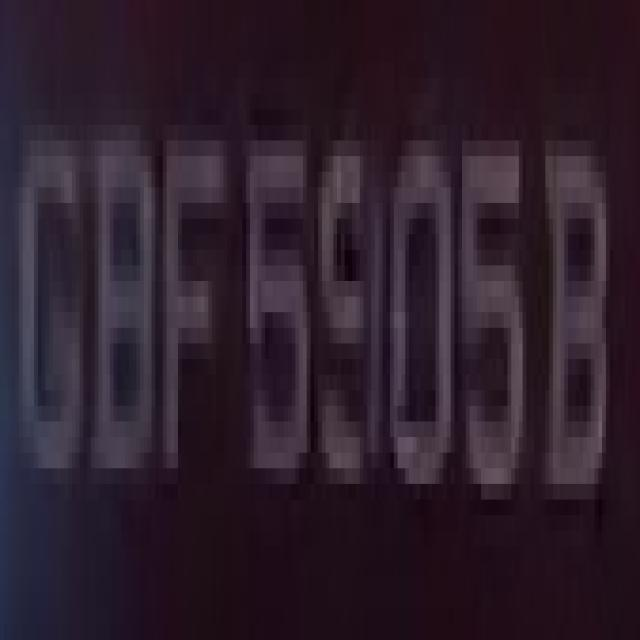0: (382, 125, 454, 484)
5: (235, 93, 318, 500), (462, 94, 534, 546)
9: (318, 125, 386, 484)
B: (538, 93, 610, 530), (87, 93, 155, 500)
F: (159, 94, 231, 515)
G: (7, 78, 91, 515)
